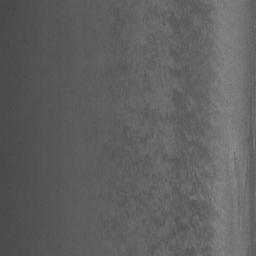Silk spot: (86, 0, 229, 256), (226, 221, 232, 253)
